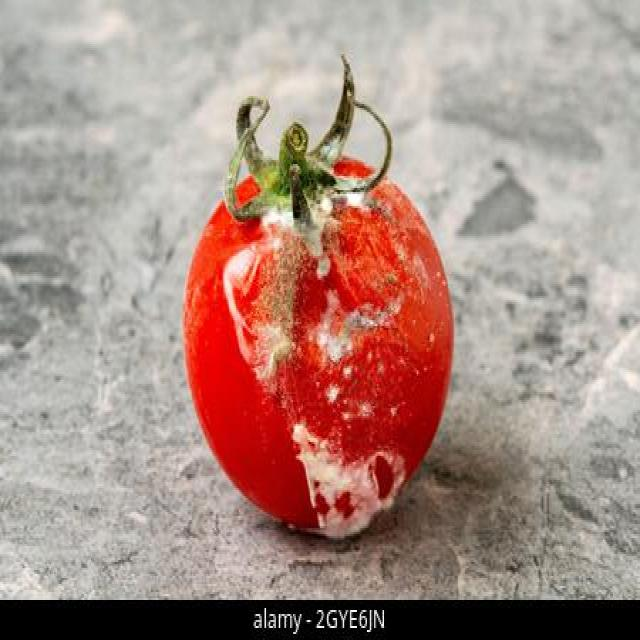Rotten: (184, 144, 452, 539)
